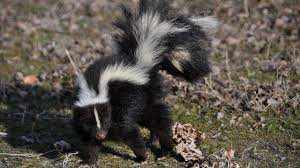skunk: (70, 8, 208, 162)
